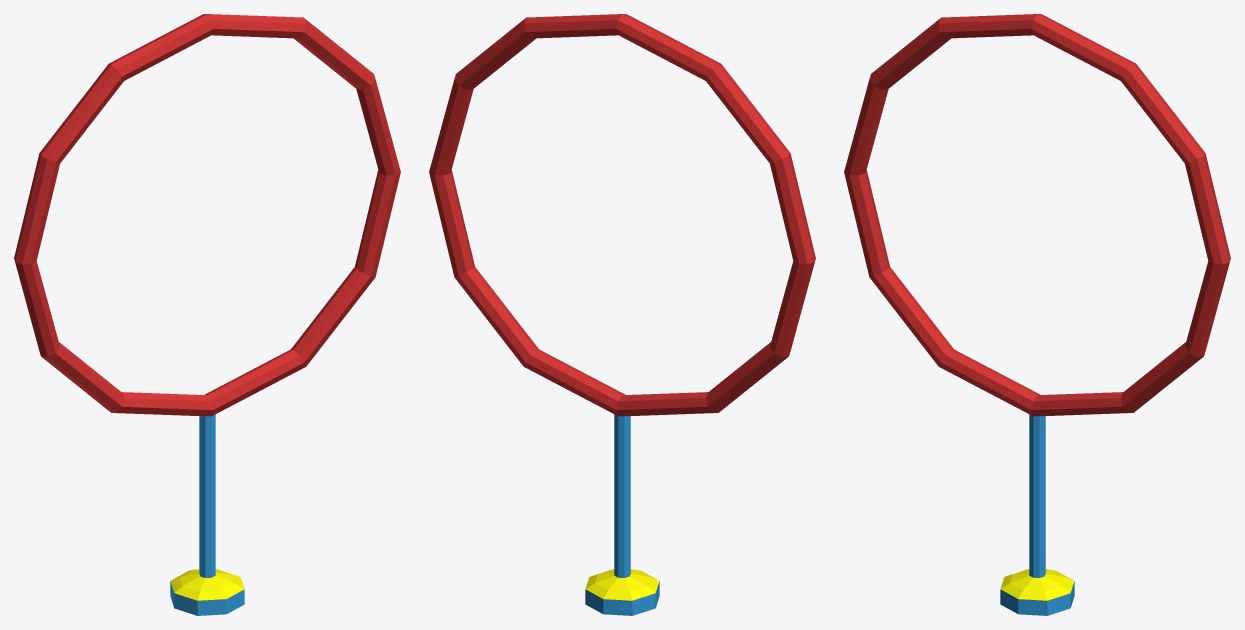
File: obstaculoRing.fbx
3 views of the same model, side by side, from view 1: azimuth 30°, elevation 25°; view 2: azimuth 150°, elevation 25°; view 3: azimuth 330°, elevation 25° (orthographic).
Parts seen in each view (by area): view 1: Cylinder.002; view 2: Cylinder.002; view 3: Cylinder.002.
Boxes of the visible parts, bbox=[...] form: Cylinder.002: bbox=[14, 14, 400, 615]; Cylinder.002: bbox=[429, 14, 815, 615]; Cylinder.002: bbox=[844, 14, 1230, 615].
Size of the model in its own units: 695 by 1013 by 120.
